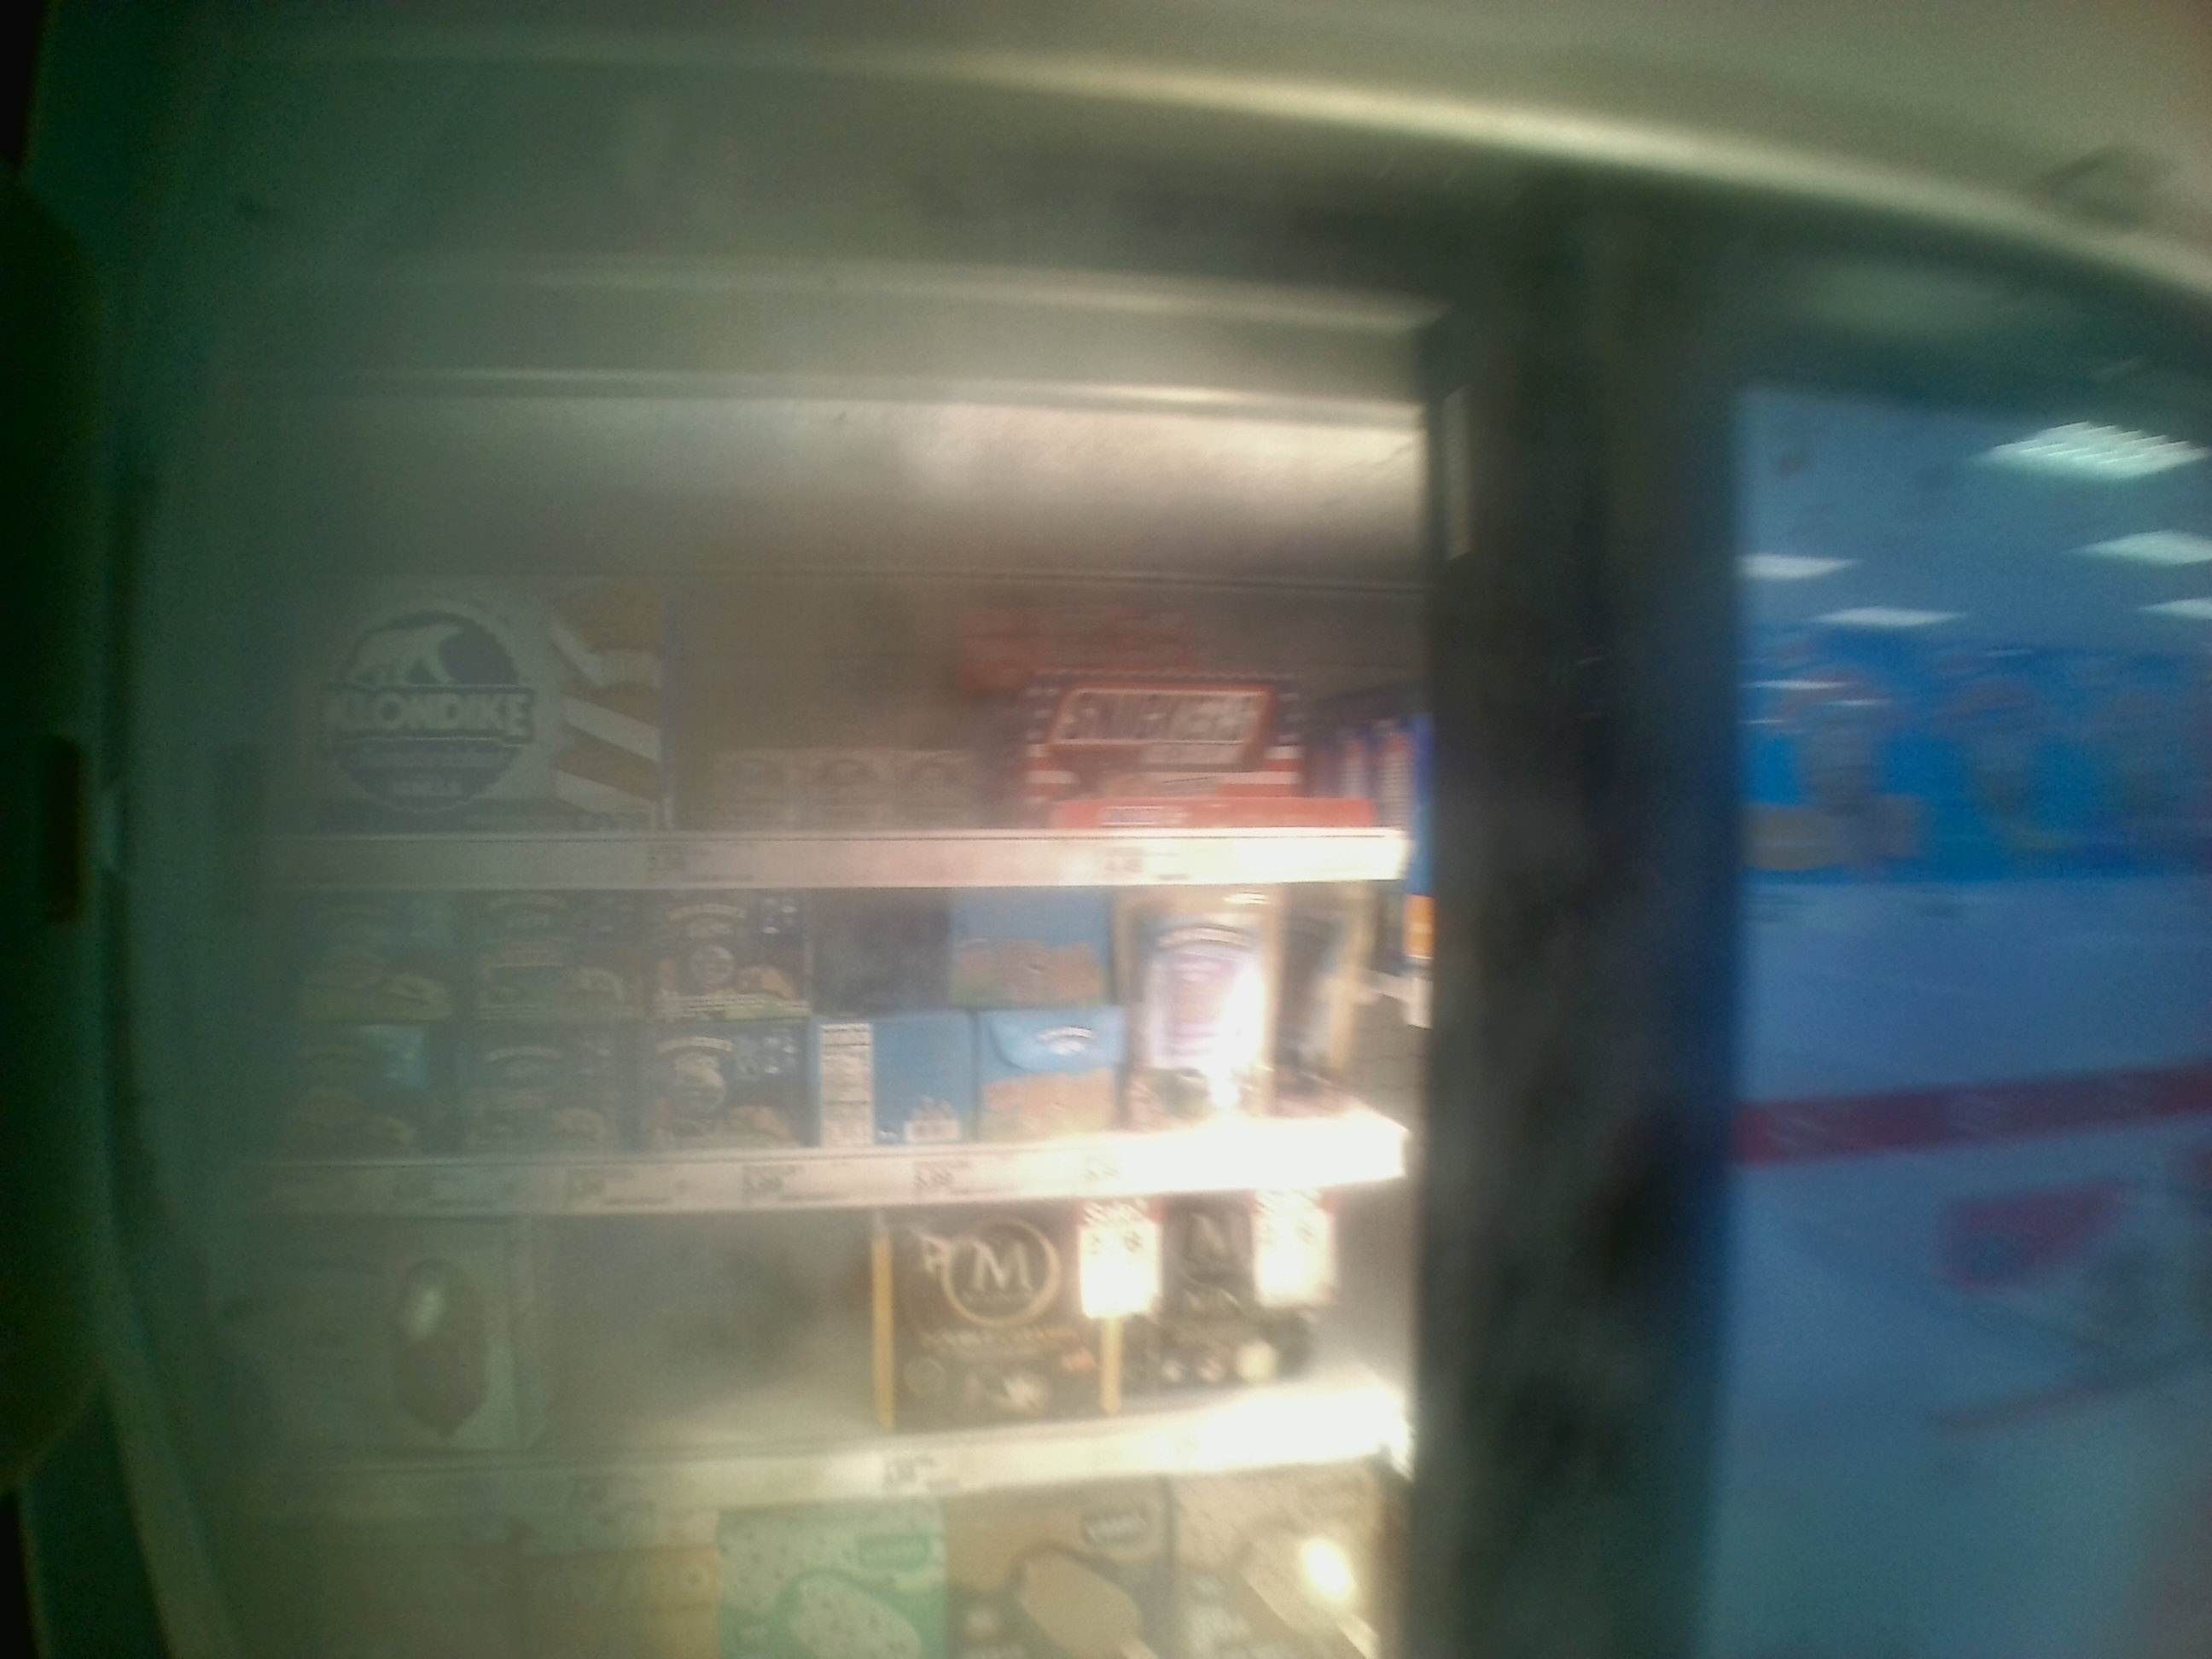shelf: (223, 476, 1395, 897), (221, 889, 1413, 1229), (212, 1225, 1413, 1532)
